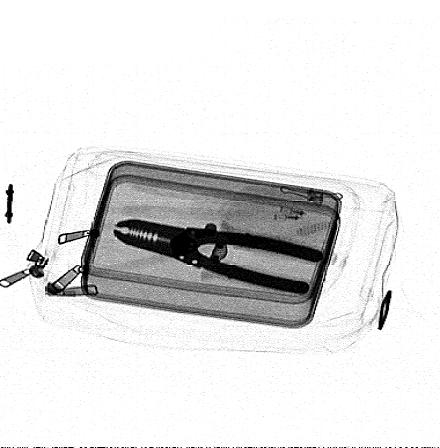Pliers: (112, 218, 328, 294)
